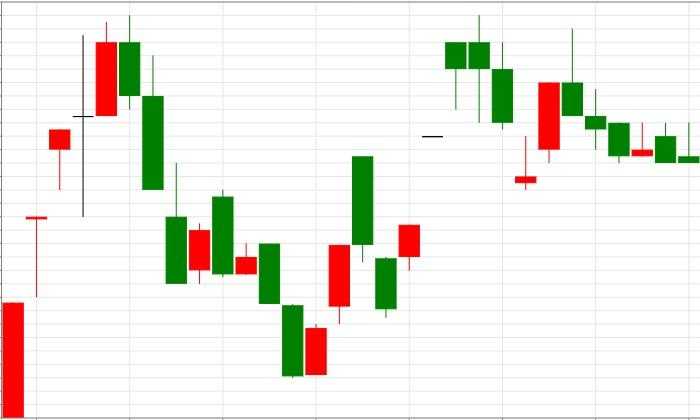three_black_crows_fall: (2, 15, 188, 419)
